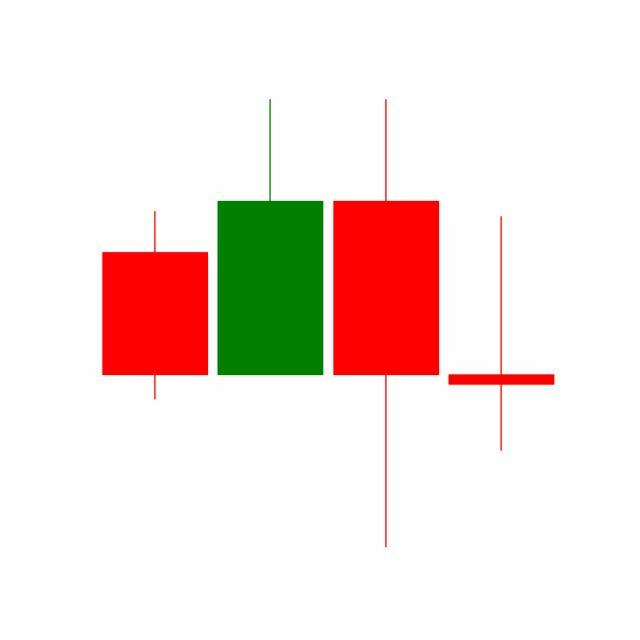Spinning Top: (444, 214, 560, 455)
